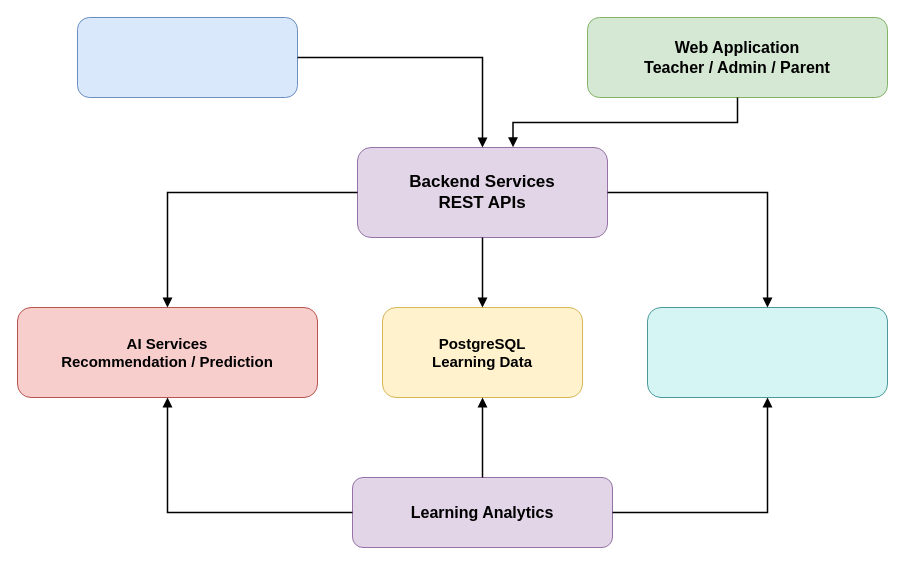
This 905x565 diagram has some shape labels left out. The centre of each missing label's shape, as x and y in pixels:
"LLM + RAG AI Tutor" goes at [767,352].
"Student Mobile App" goes at [187,57].
